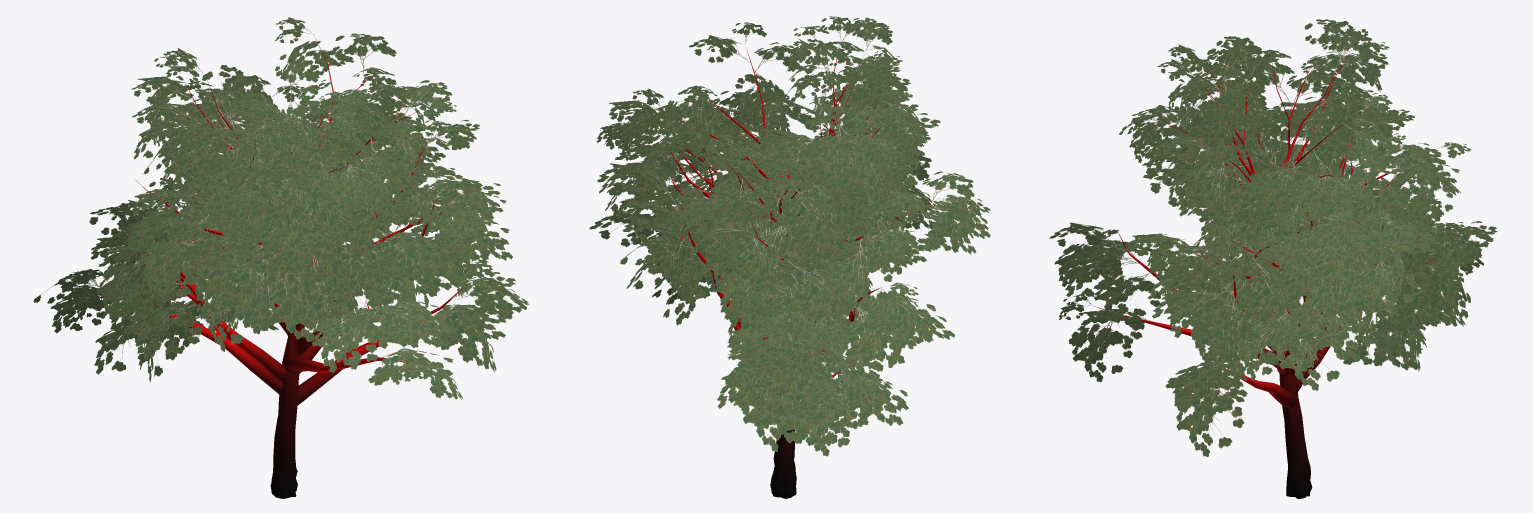
Rendered from tree02.fbx.
3 renders of one model, left to right at view 1: azimuth 30°, elevation 25°; view 2: azimuth 150°, elevation 25°; view 3: azimuth 270°, elevation 25°, orthographic. The views are drawn at different scales.
Parts seen in each view (by area): view 1: tree07_LOD0; view 2: tree07_LOD0; view 3: tree07_LOD0.
Part boxes in pixels (x1,y1,x2,y2): tree07_LOD0: (33, 17, 529, 498); tree07_LOD0: (589, 16, 990, 498); tree07_LOD0: (1049, 19, 1497, 498).
Size of what is drawn, in the model's own units: 1292 by 1431 by 1437.
